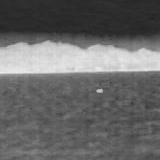Target: (95, 88, 104, 94)
